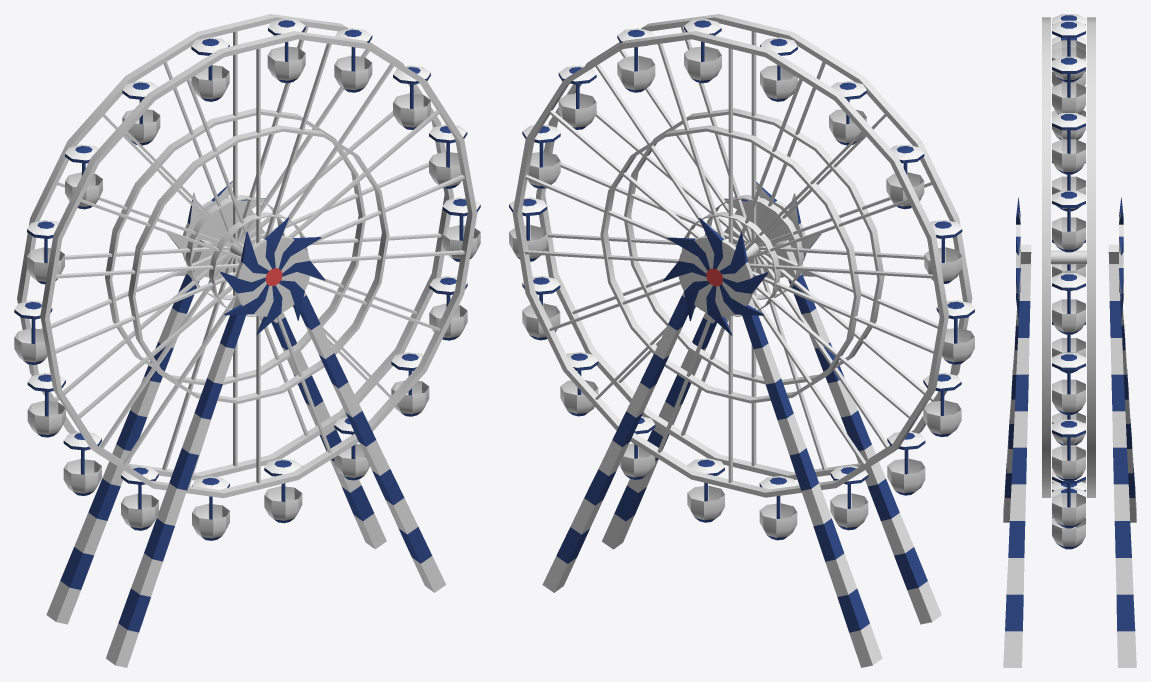
The model's file is ferris-wheel.glb.
The picture shows the model from 3 angles, left to right: view 1: azimuth 30°, elevation 25°; view 2: azimuth 150°, elevation 25°; view 3: azimuth 270°, elevation 25°; orthographic projection. The views are drawn at different scales.
Parts seen in each view (by area): view 1: Ferris_Wheel; view 2: Ferris_Wheel; view 3: Ferris_Wheel.
Part boxes in pixels (x1,y1,x2,y2): Ferris_Wheel: [14, 14, 480, 667]; Ferris_Wheel: [509, 14, 974, 667]; Ferris_Wheel: [1003, 14, 1136, 667].
Size of the model in its own units: 1.92 by 2.28 by 0.4999.
1 material, 1 textured.
